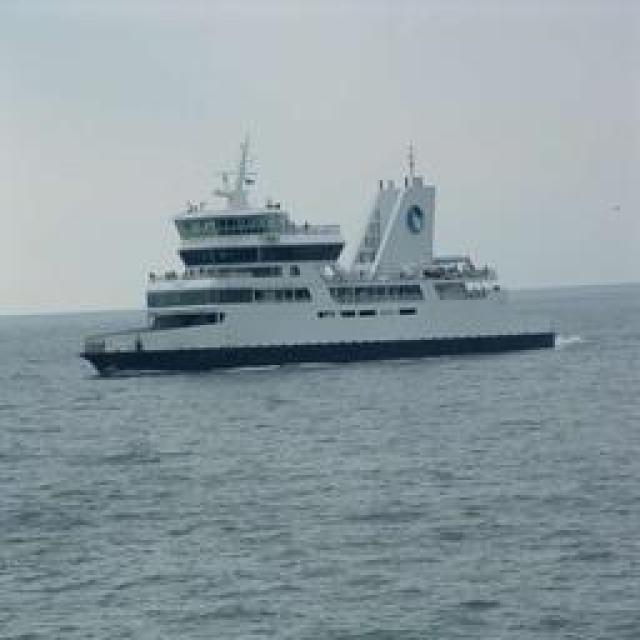Ship: (77, 130, 557, 378)
